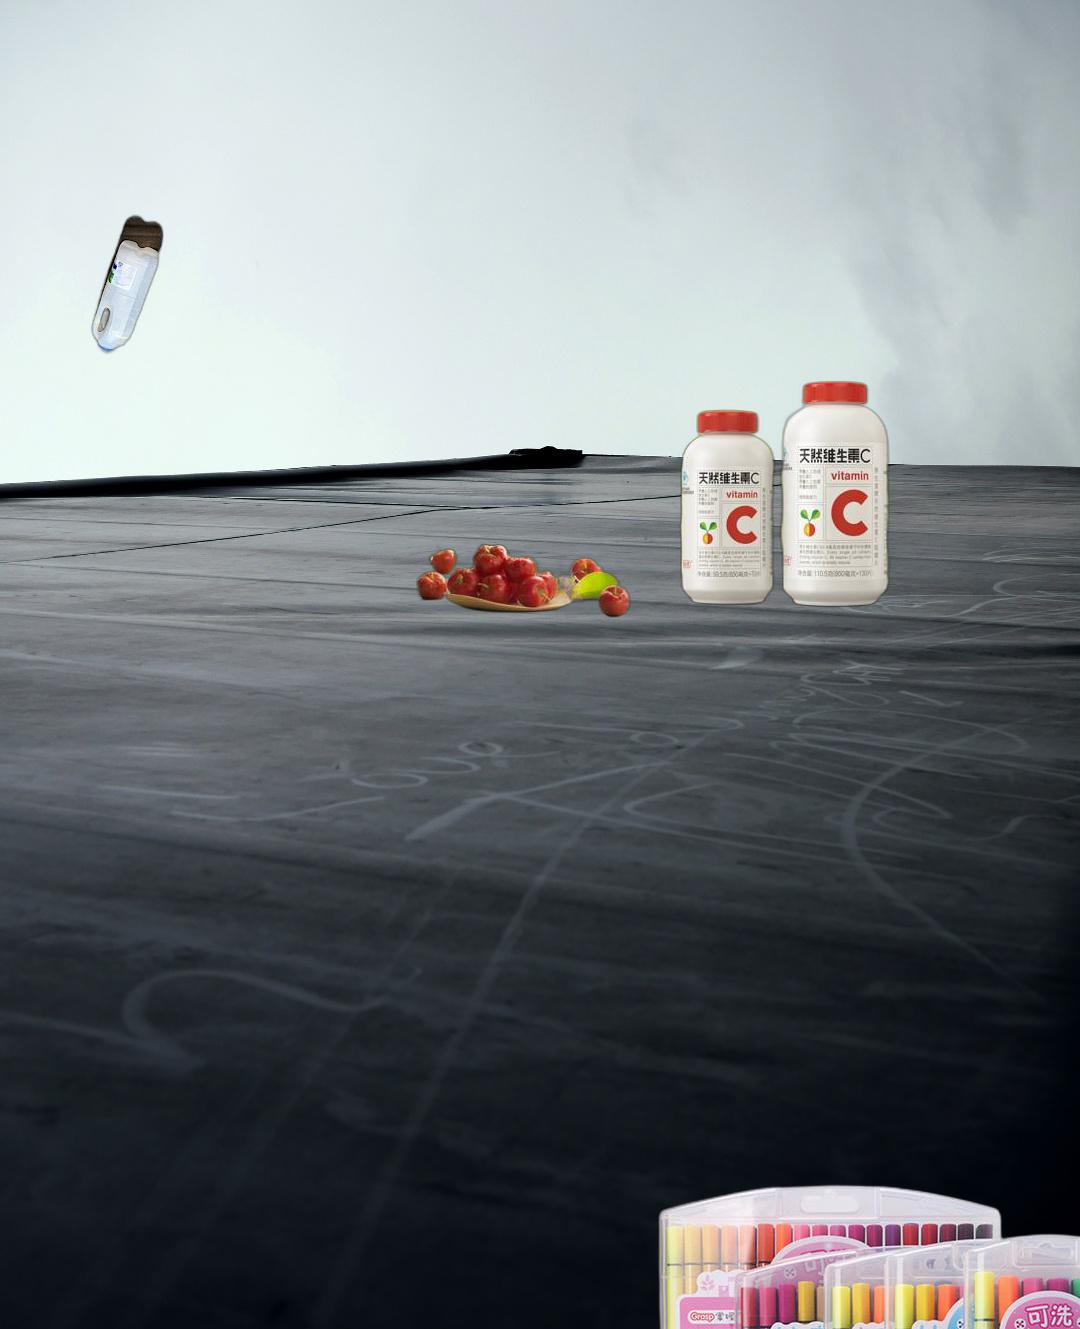biological: (411, 378, 895, 620)
penholder: (654, 1181, 1080, 1329), (1029, 922, 1080, 1329)
plastic-bottles: (88, 210, 262, 358)
